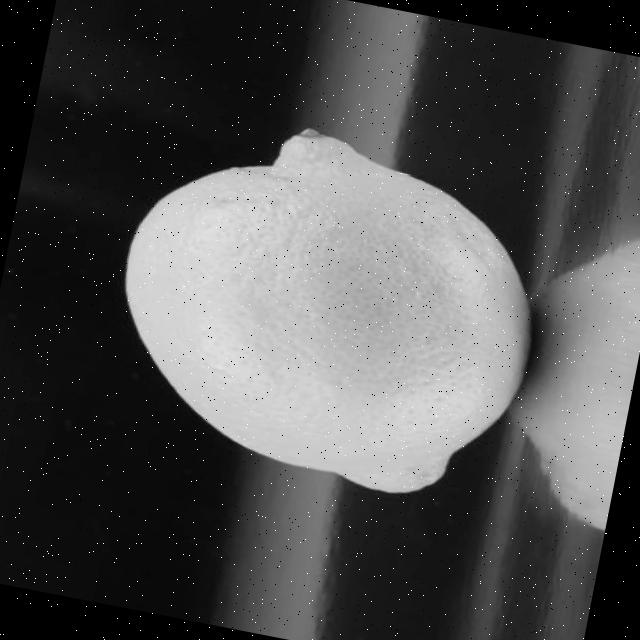Ripe: (84, 93, 569, 520)
